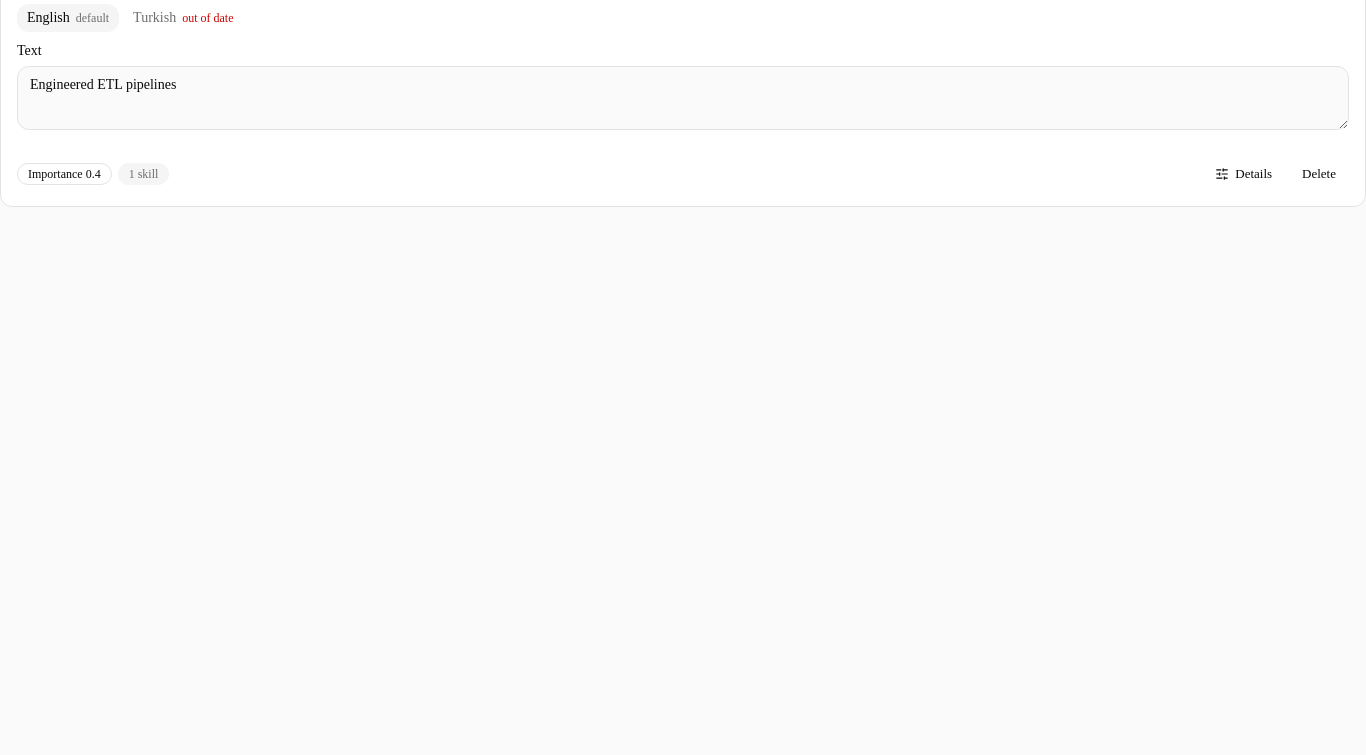
Test: the labels on an atom › shows the ones it already wears
Click the button with aria-label "Show the details of": click(1244, 174) [1202,158,1285,190]
(page scrolled)
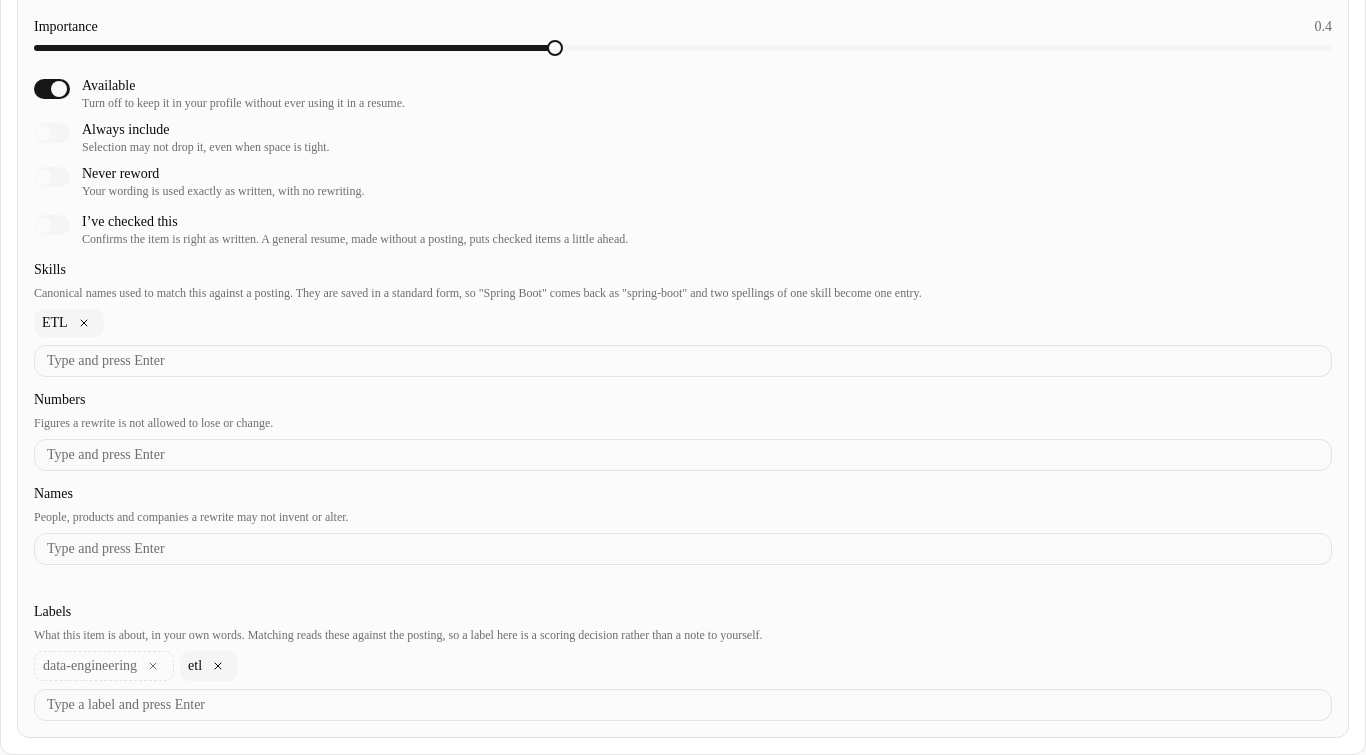
Expected: the field labelled "Labels" is shown, [34,689,1332,721]
Expected: the text "data-engineering" is shown, [43,656,137,676]
Expected: the text "etl" is shown, [188,656,202,676]
